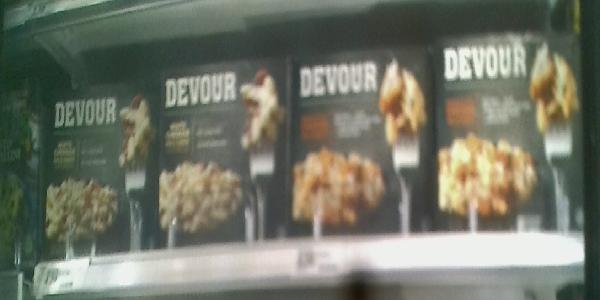pizza1: (434, 28, 584, 231), (286, 51, 431, 237), (157, 62, 284, 246), (45, 80, 157, 249)
